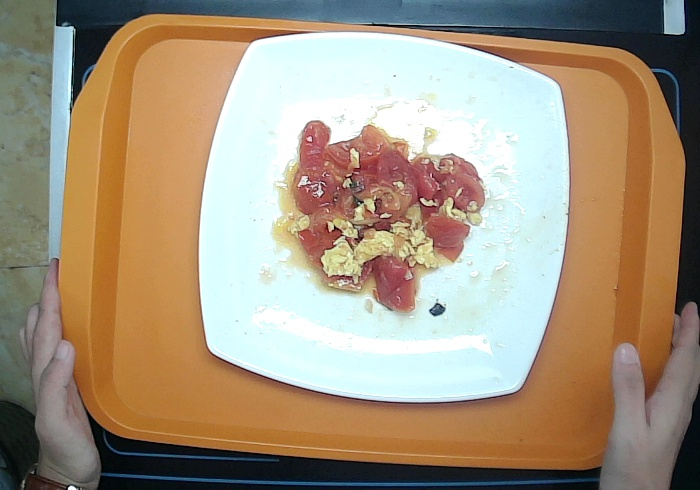ZNLD-Bai_Fang_Pan: (194, 28, 576, 407)
